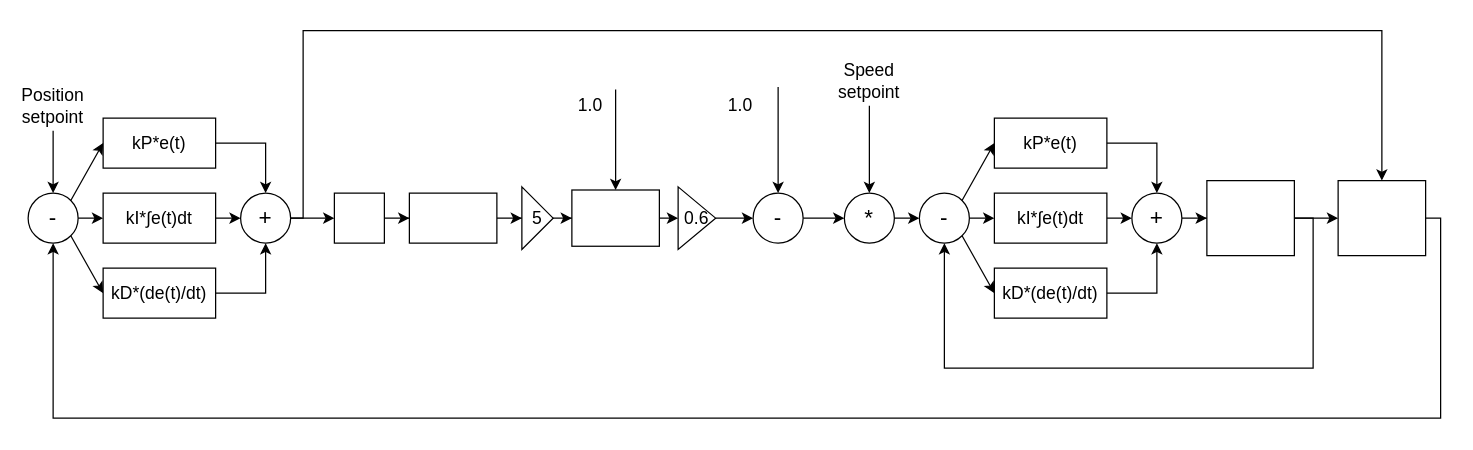
Image size: 1473x450. Some labels were removed from this diagram. Each missing label, with the centre of its shape:
"Average of last 5" goes at (452,217).
"min(x)" goes at (615,217).
"Position model" goes at (1381,217).
"Speed model" goes at (1250,217).
"|x|" goes at (358,217).
